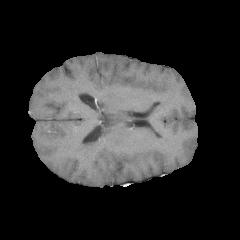glioma: (74, 128, 116, 163)
